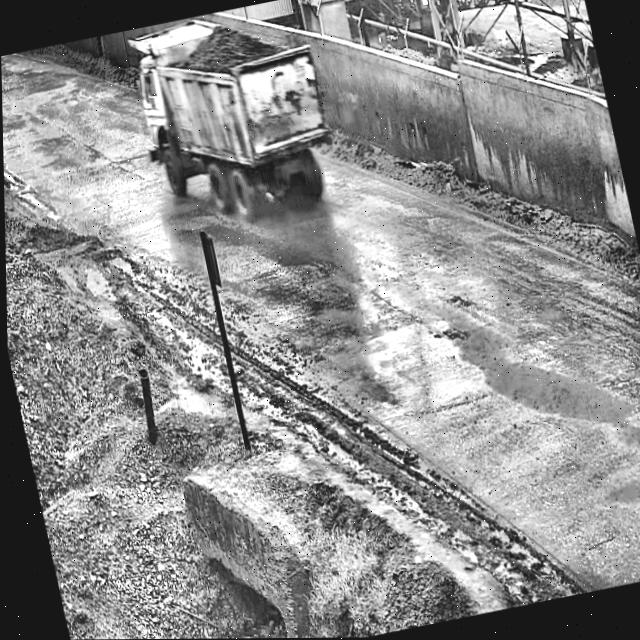dump_truck: (121, 0, 350, 248)
